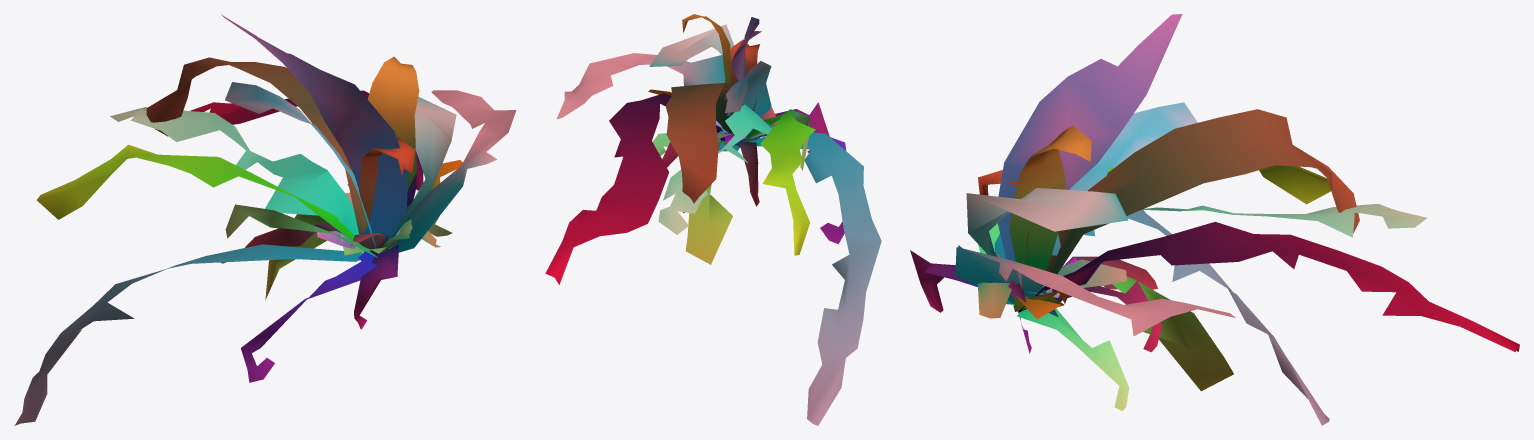
The model's file is Fern_sbslY_High_sbslY_VarF_LOD1.fbx.
The picture shows the model from 3 angles, left to right: view 1: azimuth 30°, elevation 25°; view 2: azimuth 150°, elevation 25°; view 3: azimuth 270°, elevation 25°; orthographic projection. The views are drawn at different scales.
Parts seen in each view (by area): view 1: _ad2d_VarF_LOD1; view 2: _ad2d_VarF_LOD1; view 3: _ad2d_VarF_LOD1.
Part boxes in pixels (x1,y1,x2,y2): _ad2d_VarF_LOD1: (14, 14, 516, 425); _ad2d_VarF_LOD1: (545, 14, 881, 425); _ad2d_VarF_LOD1: (910, 14, 1519, 425).
Size of the model in its own units: 100 by 97.05 by 111.
